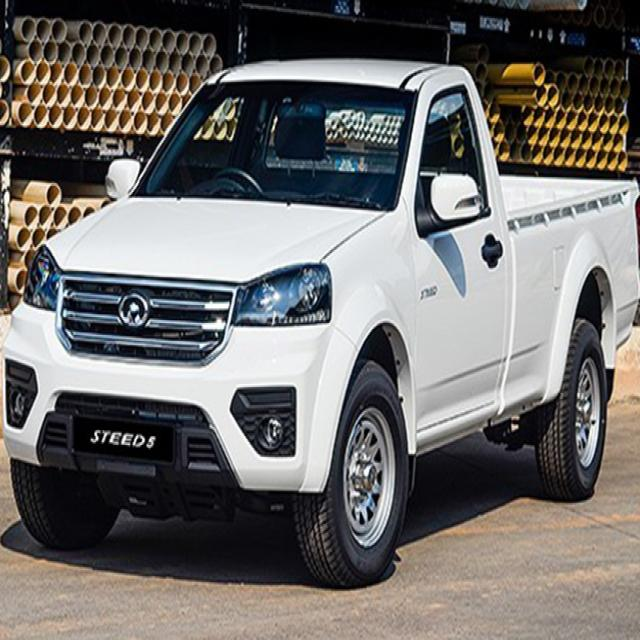Pickup Trucks: (4, 59, 640, 591)
